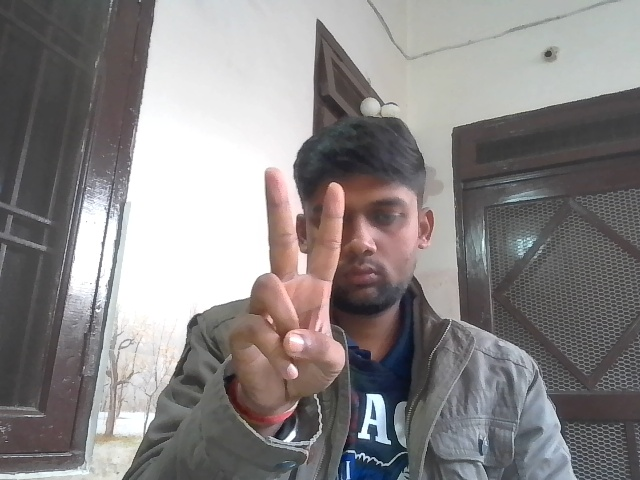Enjoy: (236, 164, 354, 409)
